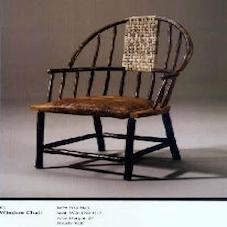chair: (39, 11, 188, 185)
